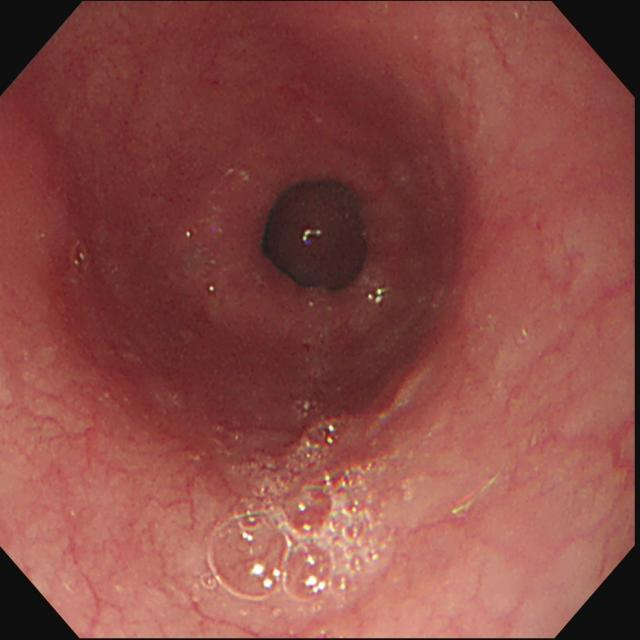E: (252, 172, 378, 303)
T: (206, 424, 391, 606)
